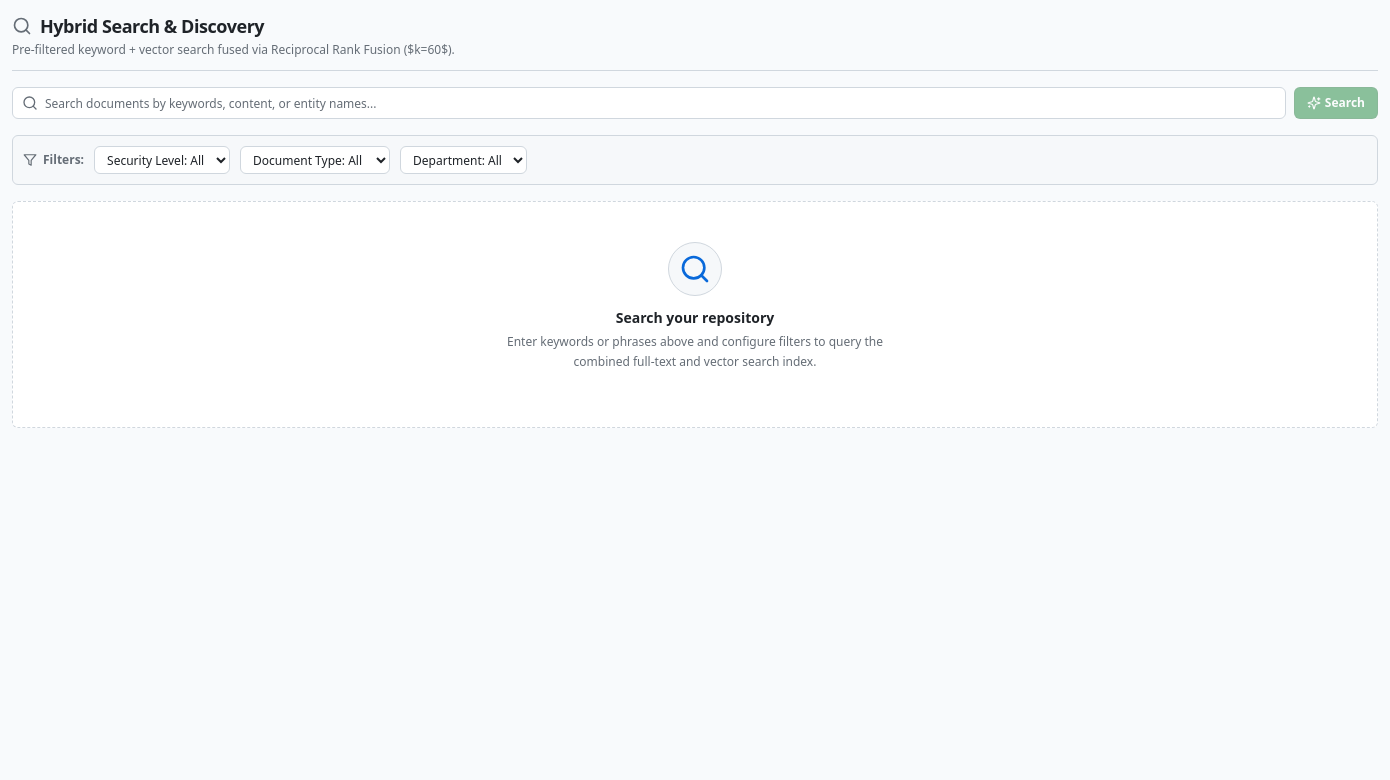
Test case: SearchPage › executes search with query, level, and department filters
The image size is (1390, 780).
Step 1. Type "financial overview" into the field named "search query" → x=649, y=103, box [12, 87, 1286, 119]
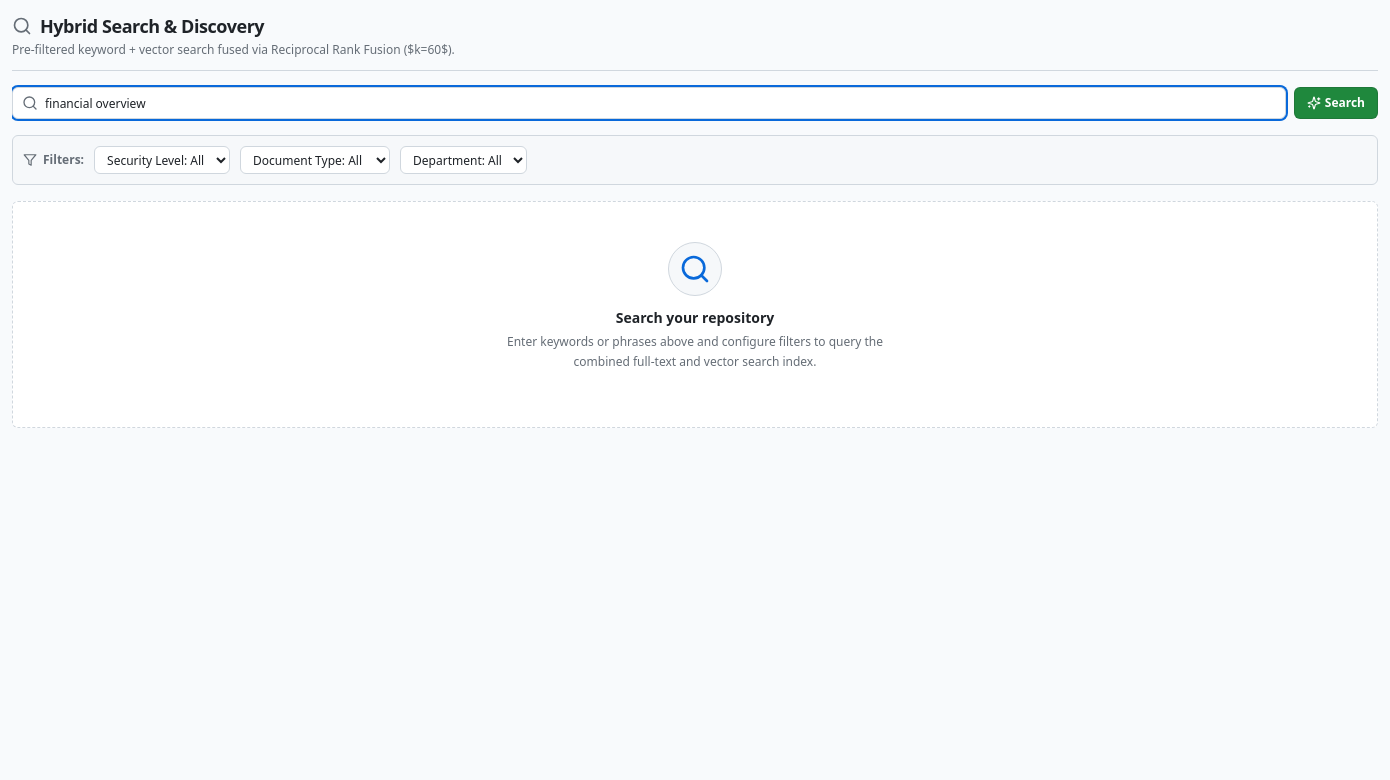
Step 2. Select "Internal" in the dropdown with test id "search-filter-level" → x=162, y=160, box [94, 146, 230, 174]
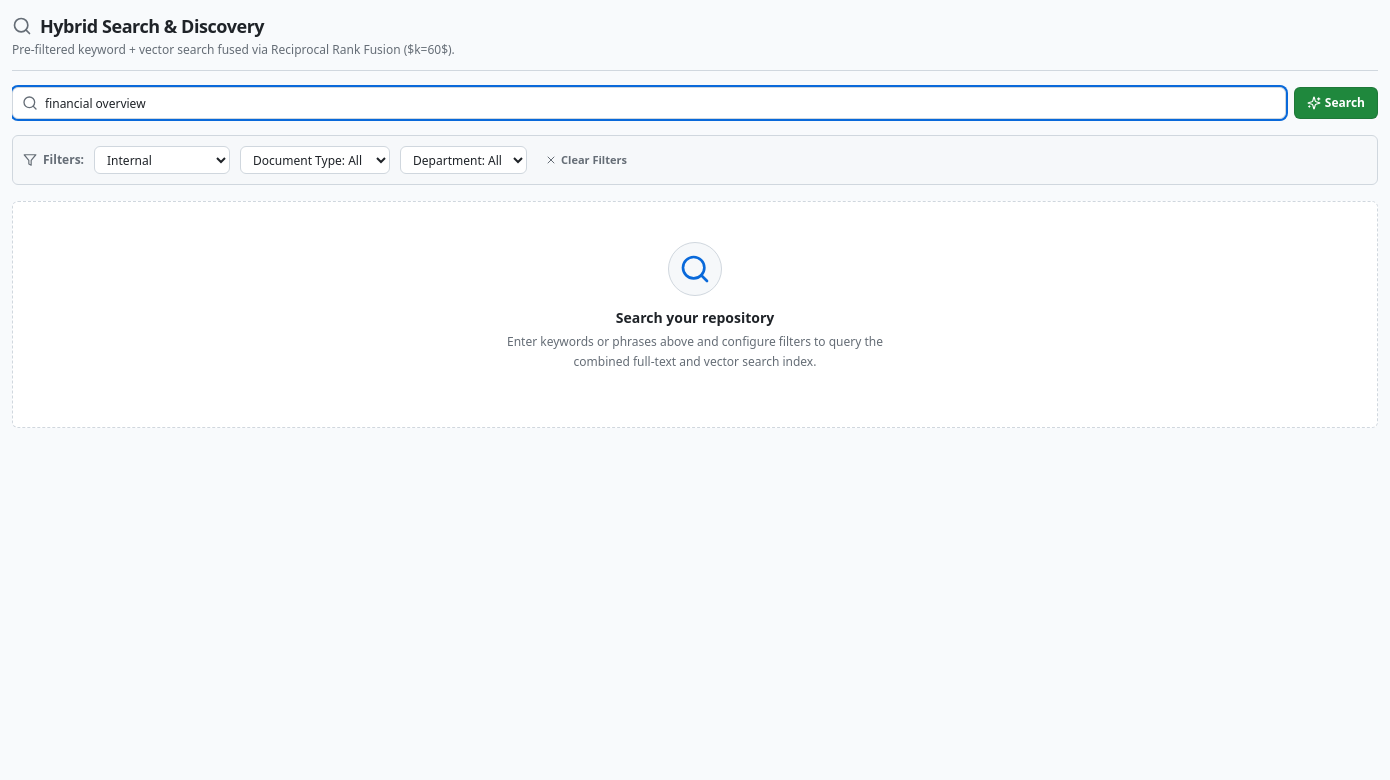
Step 3. Select "Finance" in the dropdown with test id "search-filter-department" → x=464, y=160, box [400, 146, 527, 174]
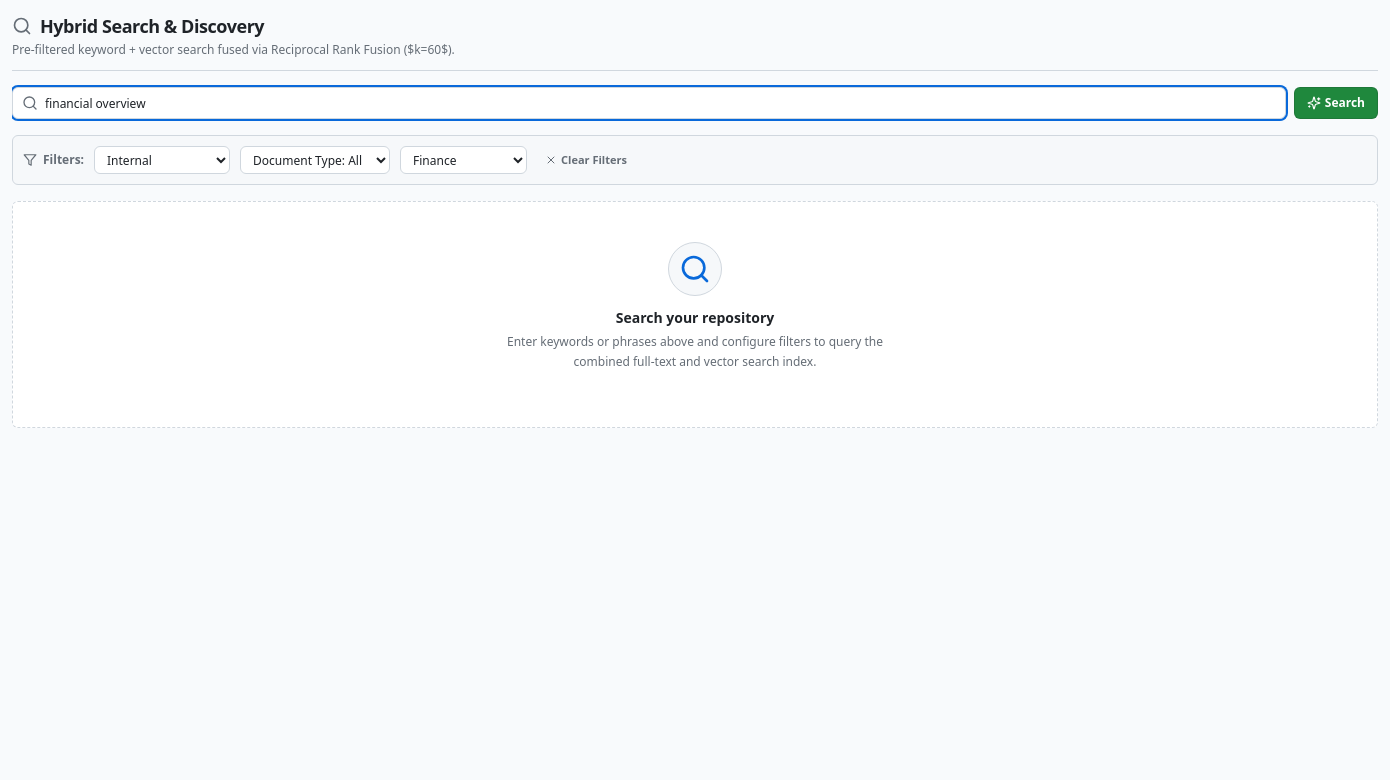
Step 4. Click the button "Search" → x=1336, y=103, box [1294, 87, 1378, 119]
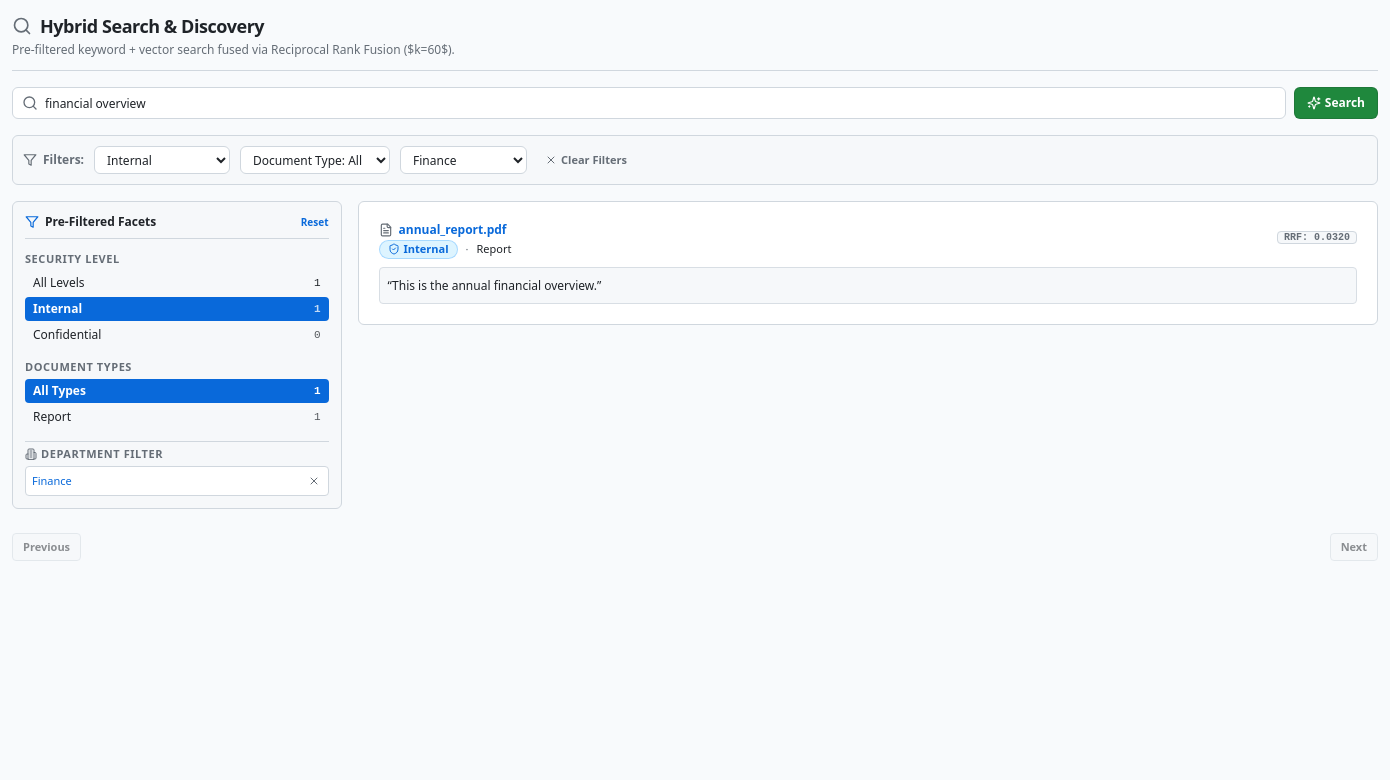
Expected: the text "annual_report.pdf" is shown, [398, 222, 506, 238]
Expected: the text "“This is the annual financial overview.”" is shown, [378, 266, 1357, 304]
